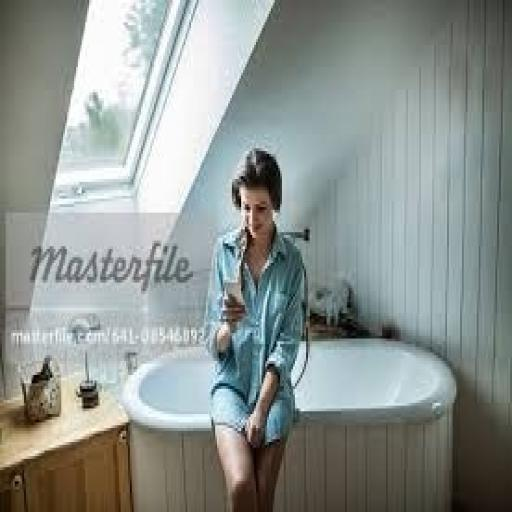texting: (200, 143, 310, 509)
